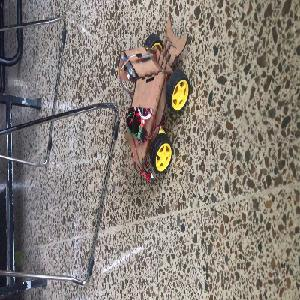Robot: (116, 14, 190, 177)
